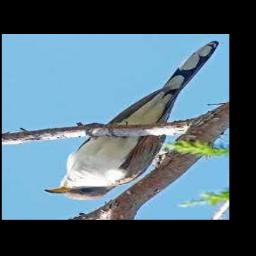Cuckoo: (43, 41, 219, 201)
